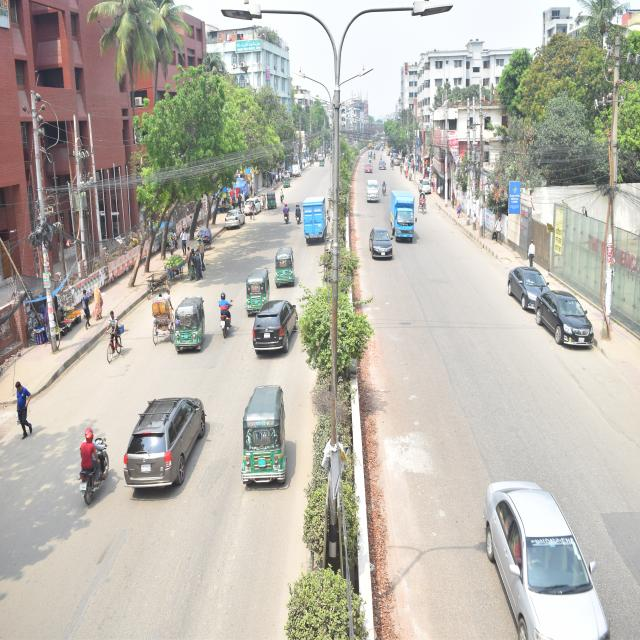car: (482, 474, 614, 640), (124, 394, 206, 495), (537, 291, 594, 349), (250, 298, 299, 360), (506, 264, 554, 312), (366, 225, 396, 261), (222, 206, 248, 232), (243, 194, 266, 215), (417, 175, 434, 194)
microbus: (366, 178, 379, 204)
motorbike: (80, 433, 113, 506), (219, 291, 235, 340), (292, 201, 302, 225), (284, 202, 290, 224)
pickup-van: (387, 188, 418, 248), (304, 190, 328, 242)
